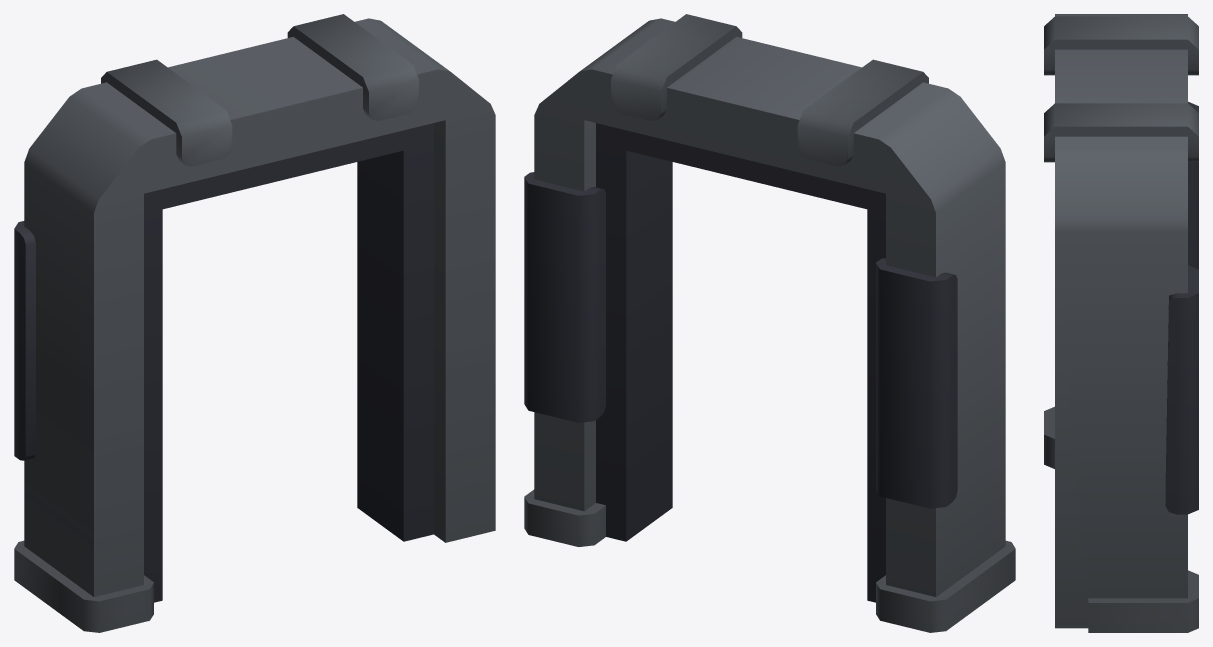
The model's file is k_gate.glb.
3 views of the same model, side by side, from view 1: azimuth 30°, elevation 25°; view 2: azimuth 150°, elevation 25°; view 3: azimuth 270°, elevation 25° (orthographic). The views are drawn at different scales.
Visible parts, largest first — view 1: gate; view 2: gate; view 3: gate.
Boxes of the visible parts, x1,y1,x2,y2 form: gate: (14, 14, 495, 632); gate: (524, 14, 1015, 632); gate: (1044, 14, 1198, 632).
Size of the model in its own units: 4.2 by 4.62 by 1.4.
Materials: 1 (1 with a texture image).
